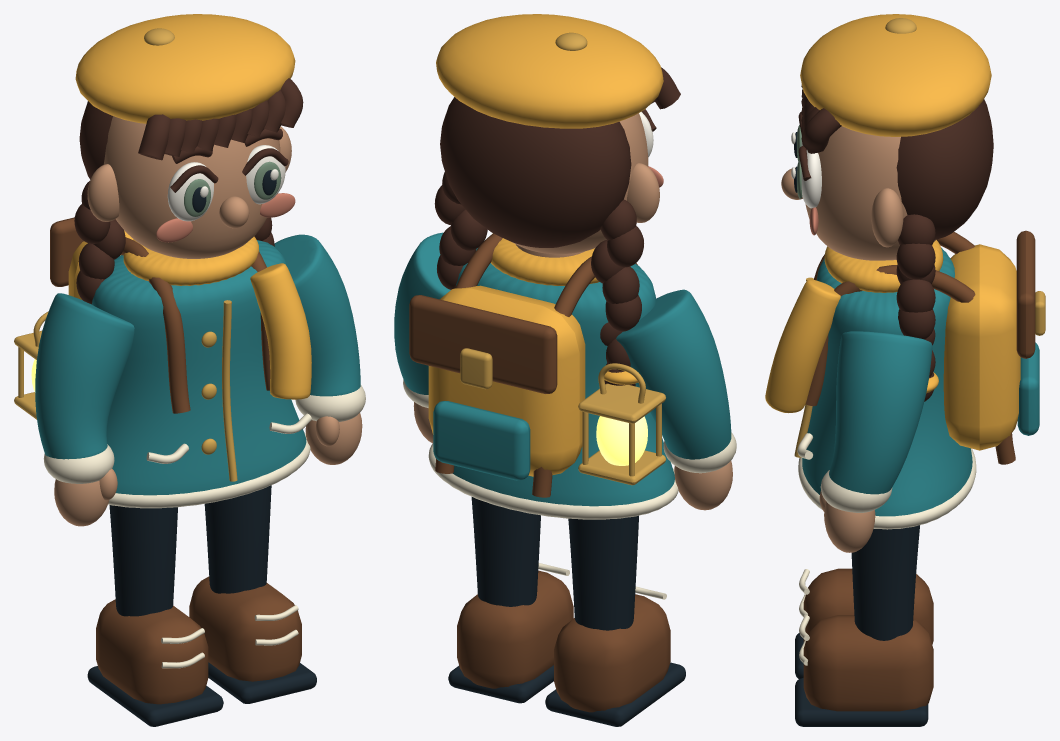
File: Explorer.glb
The picture shows the model from 3 angles, left to right: view 1: azimuth 30°, elevation 25°; view 2: azimuth 150°, elevation 25°; view 3: azimuth 270°, elevation 25°; orthographic projection. The views are drawn at different scales.
Parts seen in each view (by area): view 1: Tailored coat, Explorer cap, Shaped sleeve.001, Face, Boot.001, Boot, Shaped sleeve, Trousers.001, Trousers, Scarf tail, Knitted scarf collar, Shoulder strap.001 (+25 smaller); view 2: Hair back, Explorer cap, Shaped sleeve.001, Canvas backpack, Tailored coat, Backpack flap, Boot.001, Boot, Trousers.001, Trousers, Backpack pocket, Shaped sleeve (+24 smaller); view 3: Explorer cap, Tailored coat, Canvas backpack, Shaped sleeve, Boot, Hair back, Face, Trousers, Scarf tail, Boot.001, Boot sole, Backpack flap (+15 smaller).
Part boxes in pixels (x1,y1,x2,y2): Tailored coat: [92, 240, 306, 495]; Explorer cap: [75, 14, 295, 123]; Shaped sleeve.001: [35, 293, 134, 459]; Face: [103, 116, 280, 258]; Boot.001: [96, 599, 208, 704]; Boot: [189, 576, 301, 681]; Shaped sleeve: [274, 234, 360, 396]; Trousers.001: [109, 505, 177, 616]; Trousers: [204, 485, 271, 593]; Scarf tail: [250, 263, 311, 399]; Knitted scarf collar: [123, 236, 259, 285]; Shoulder strap.001: [121, 237, 190, 413]; Hair back: [440, 97, 631, 247]; Explorer cap: [436, 14, 663, 128]; Shaped sleeve.001: [616, 289, 731, 459]; Canvas backpack: [428, 285, 585, 476]; Tailored coat: [433, 248, 674, 506]; Backpack flap: [409, 295, 557, 393]; Boot.001: [554, 594, 670, 712]; Boot: [457, 570, 573, 688]; Trousers.001: [568, 515, 638, 630]; Trousers: [471, 497, 540, 606]; Backpack pocket: [433, 401, 530, 480]; Shaped sleeve: [394, 232, 450, 394]; Explorer cap: [800, 14, 991, 136]; Tailored coat: [802, 247, 972, 516]; Canvas backpack: [943, 244, 1020, 450]; Shaped sleeve: [829, 331, 932, 494]; Boot: [803, 615, 933, 711]; Hair back: [896, 99, 993, 239]; Face: [805, 126, 935, 260]; Trousers: [851, 525, 919, 640]; Scarf tail: [765, 279, 840, 413]; Boot.001: [803, 568, 933, 644]; Boot sole: [795, 677, 928, 726]; Backpack flap: [1016, 230, 1035, 358].
Bounding box in the file's own units: 1.07 × 2.13 × 0.8189.
